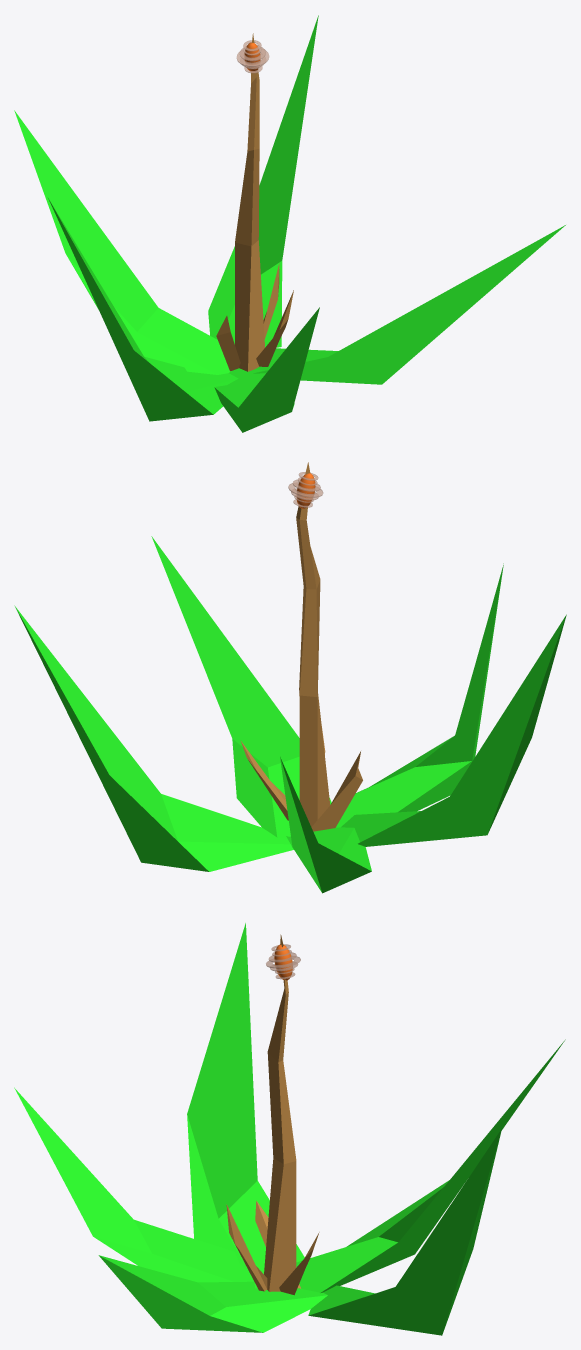
File: newplant.FBX
The picture shows the model from 3 angles, top to bottom: view 1: azimuth 30°, elevation 25°; view 2: azimuth 150°, elevation 25°; view 3: azimuth 270°, elevation 25°; orthographic projection. The views are drawn at different scales.
Parts seen in each view (by area): view 1: Box001 (×3), Box003, Box005, Box004, Box006, Box007; view 2: Box001 (×3), Box003, Box004, Box005, Box006, Box008; view 3: Box001 (×3), Box003, Box004, Box005, Box007, Box008, Sphere001.
Part boxes in pixels (x1,y1,x2,y2): Box001 (×3): (14,110,565,421); Box003: (208,15,318,347); Box005: (235,33,264,371); Box004: (214,307,319,432); Box006: (216,316,240,371); Box007: (256,290,293,366); Box001 (×3): (151,536,566,893); Box003: (14,605,293,871); Box004: (336,563,503,827); Box005: (296,462,330,826); Box006: (311,751,362,831); Box008: (240,740,288,820); Box001 (×3): (98,923,565,1332); Box003: (308,1129,501,1335); Box004: (14,1087,257,1288); Box005: (264,934,296,1291); Box007: (226,1204,267,1291); Box008: (279,1232,319,1295); Sphere001: (274,944,292,980).
Size of the model in its own units: 1.23 by 0.8701 by 1.21.
